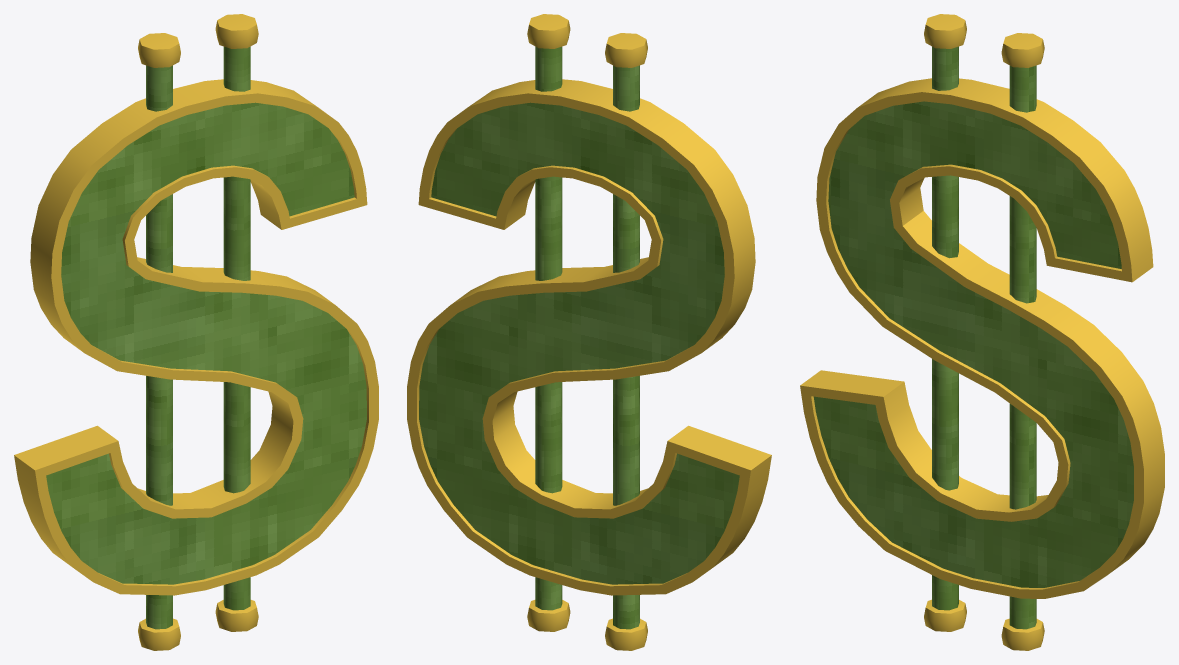
The model's file is dollar.fbx.
3 renders of one model, left to right at view 1: azimuth 30°, elevation 25°; view 2: azimuth 150°, elevation 25°; view 3: azimuth 330°, elevation 25°, orthographic.
Visible parts, largest first — view 1: S, S_outline, II, II_buttons; view 2: S, S_outline, II, II_buttons; view 3: S, S_outline, II, II_buttons.
Boxes of the visible parts, bbox=[...] form: S: bbox=[46, 102, 366, 584]; S_outline: bbox=[14, 79, 378, 595]; II: bbox=[146, 46, 250, 629]; II_buttons: bbox=[138, 14, 258, 650]; S: bbox=[419, 102, 739, 584]; S_outline: bbox=[407, 79, 771, 595]; II: bbox=[535, 46, 639, 629]; II_buttons: bbox=[527, 14, 647, 650]; S: bbox=[813, 101, 1133, 587]; S_outline: bbox=[800, 78, 1164, 598]; II: bbox=[932, 46, 1036, 629]; II_buttons: bbox=[924, 14, 1044, 650].
Size of the model in its own units: 38.41 by 64.29 by 4.33.
2 materials, 2 textured.
